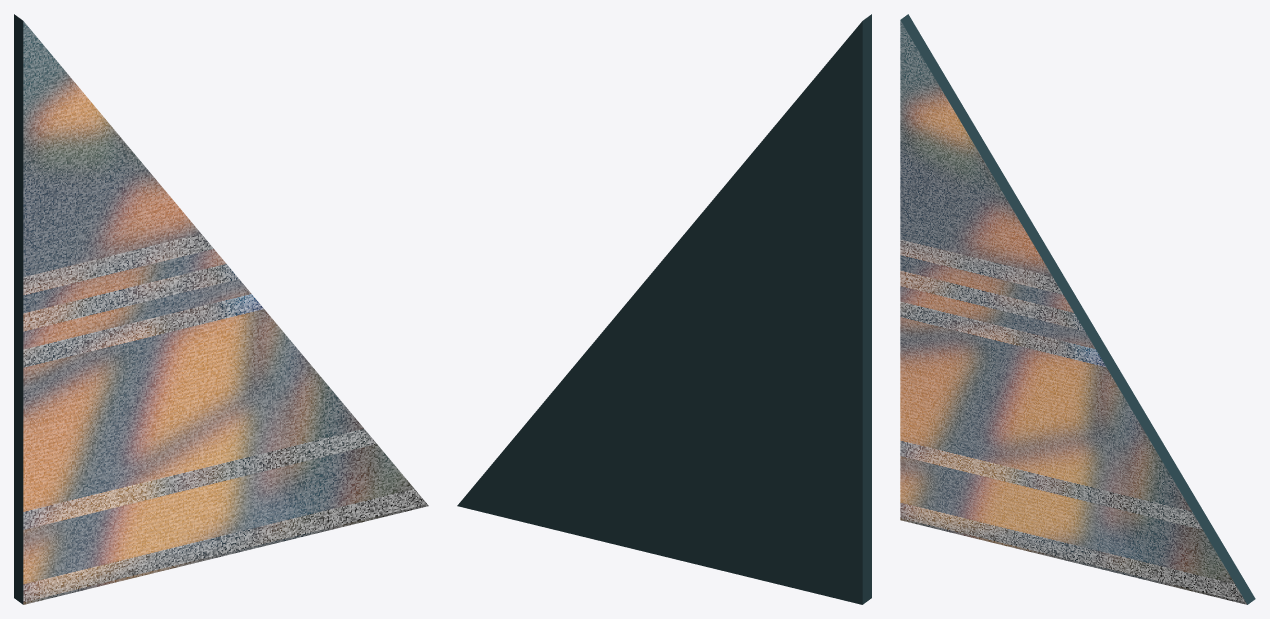
The picture shows the model from 3 angles, left to right: view 1: azimuth 30°, elevation 25°; view 2: azimuth 150°, elevation 25°; view 3: azimuth 330°, elevation 25°; orthographic projection. The views are drawn at different scales.
Parts seen in each view (by area): view 1: Piece_05; view 2: Piece_05; view 3: Piece_05.
Boxes of the visible parts, left/top/right/bottom form: Piece_05: left=14, top=14, right=428, bottom=604; Piece_05: left=457, top=14, right=871, bottom=604; Piece_05: left=900, top=14, right=1255, bottom=604.
Bounding box in the file's own units: 0.618 × 0.8507 × 0.025.
Materials: 2 (1 with a texture image).
